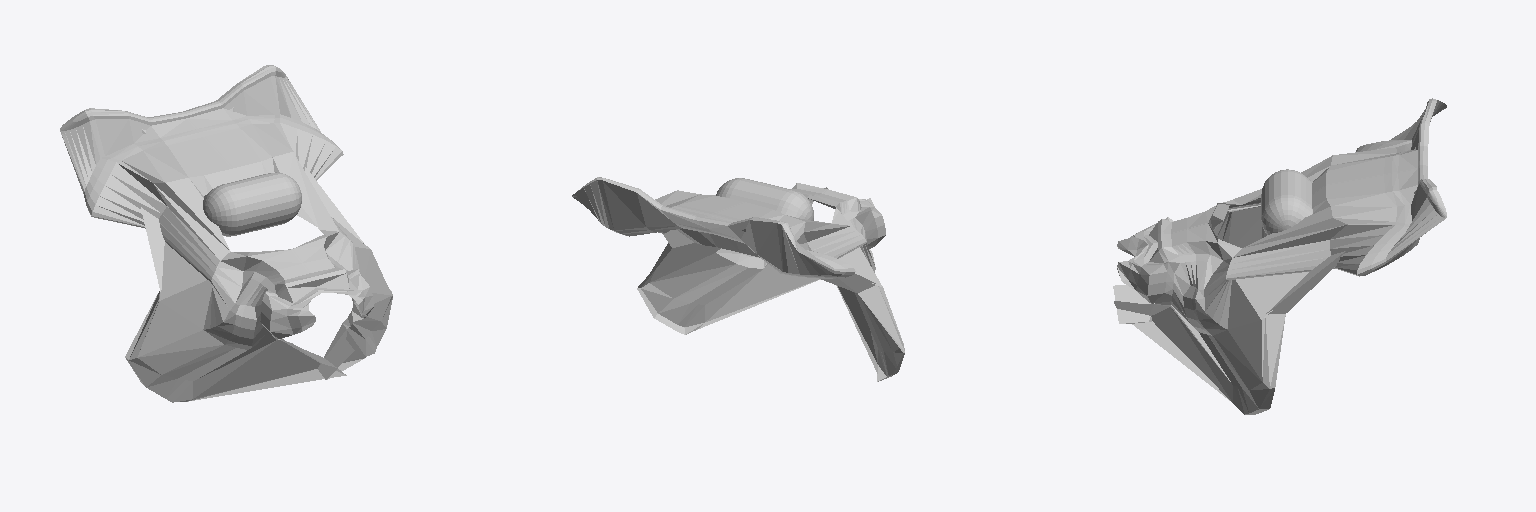
File: bug.obj
3 renders of one model, left to right at view 1: azimuth 30°, elevation 25°; view 2: azimuth 150°, elevation 25°; view 3: azimuth 270°, elevation 25°, orthographic.
Visible parts, largest first — view 1: bug.obj; view 2: bug.obj; view 3: bug.obj.
Part boxes in pixels (x1,y1,x2,y2): bug.obj: (60, 65, 392, 402); bug.obj: (572, 177, 904, 381); bug.obj: (1113, 98, 1446, 414).
Size of the model in its own units: 20.07 by 16.11 by 21.73.